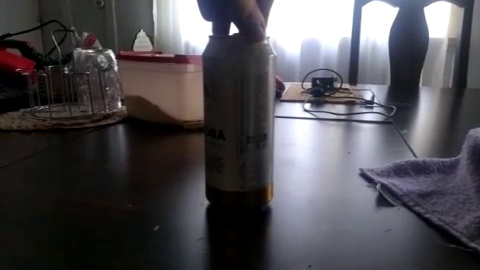bohemia: (186, 29, 290, 220)
